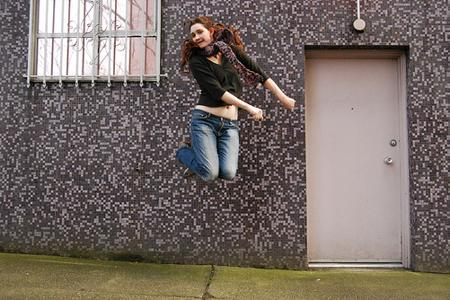person: (172, 19, 299, 184)
